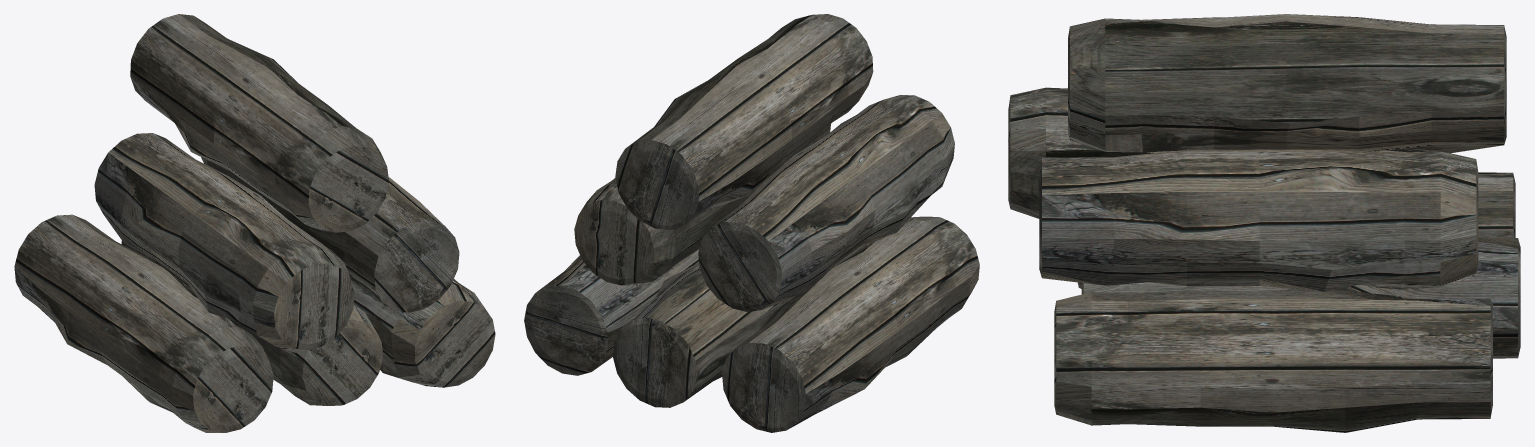
File: logs.dae
3 views of the same model, side by side, from view 1: azimuth 30°, elevation 25°; view 2: azimuth 150°, elevation 25°; view 3: azimuth 270°, elevation 25° (orthographic). The views are drawn at different scales.
Visible parts, largest first — view 1: Wood.004, Wood.005, Wood, Wood.003, Wood.002, Wood.001; view 2: Wood.004, Wood.005, Wood, Wood.001, Wood.002, Wood.003; view 3: Wood.003, Wood.002, Wood.005, Wood.001, Wood.004, Wood.
Boxes of the visible parts, bbox=[...] form: Wood.004: bbox=[94, 133, 354, 352]; Wood.005: bbox=[130, 14, 389, 232]; Wood: bbox=[14, 214, 273, 432]; Wood.003: bbox=[201, 157, 459, 312]; Wood.002: bbox=[352, 279, 495, 387]; Wood.001: bbox=[121, 241, 382, 405]; Wood.004: bbox=[698, 95, 954, 311]; Wood.005: bbox=[615, 14, 873, 230]; Wood: bbox=[722, 216, 979, 432]; Wood.001: bbox=[613, 245, 867, 407]; Wood.002: bbox=[524, 249, 698, 375]; Wood.003: bbox=[574, 124, 830, 285]; Wood.003: bbox=[1039, 149, 1478, 291]; Wood.002: bbox=[1054, 285, 1492, 432]; Wood.005: bbox=[1068, 14, 1506, 153]; Wood.001: bbox=[1081, 236, 1520, 358]; Wood.004: bbox=[1008, 87, 1405, 218]; Wood: bbox=[1077, 172, 1515, 288].
Size of the model in its own units: 6.44 by 7.47 by 5.73.
